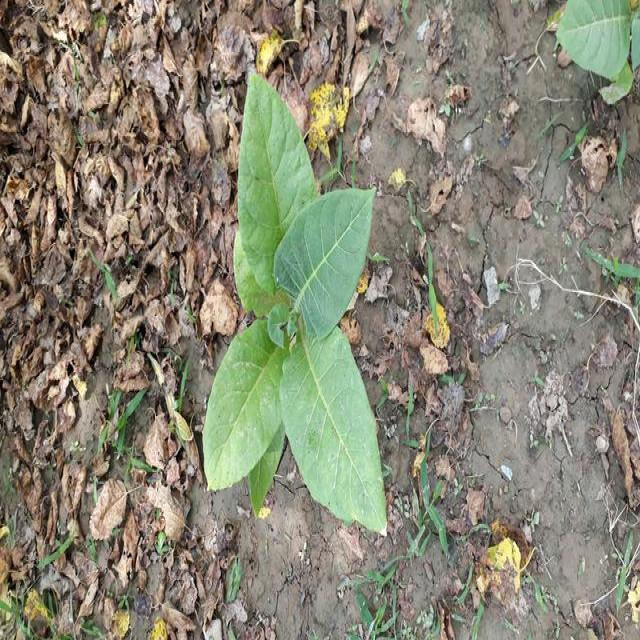crop: (206, 91, 391, 537), (549, 0, 640, 107)
